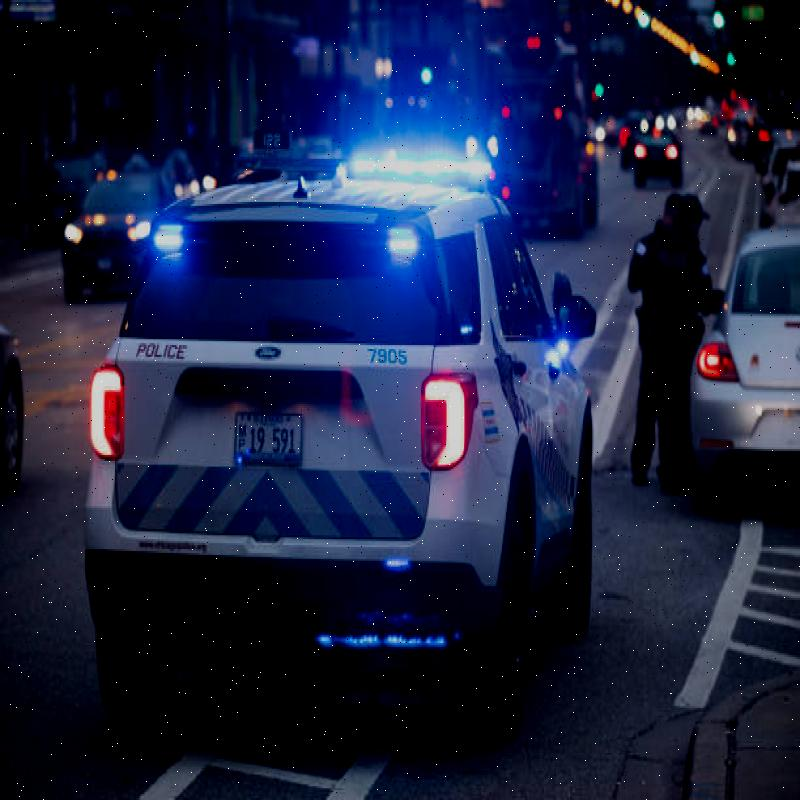AmbulanceSiren: (244, 128, 481, 196)
